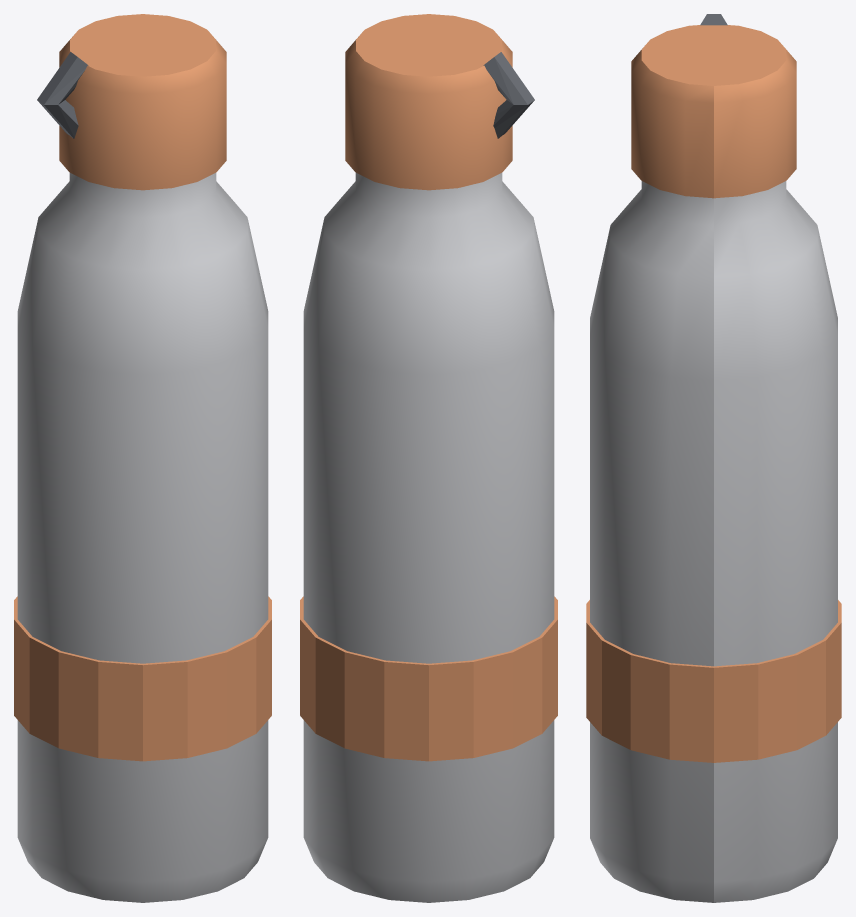
File: downtown-office-interiors-water-bottle-0a08752d__17064.glb
3 views of the same model, side by side, from view 1: azimuth 30°, elevation 25°; view 2: azimuth 150°, elevation 25°; view 3: azimuth 270°, elevation 25° (orthographic).
Parts seen in each view (by area): view 1: water-bottle; view 2: water-bottle; view 3: water-bottle.
Part boxes in pixels (x1,y1,x2,y2): water-bottle: (14, 14, 271, 902); water-bottle: (300, 14, 557, 902); water-bottle: (586, 14, 841, 902).
Size of the model in its own units: 0.074 by 0.2584 by 0.0729.
